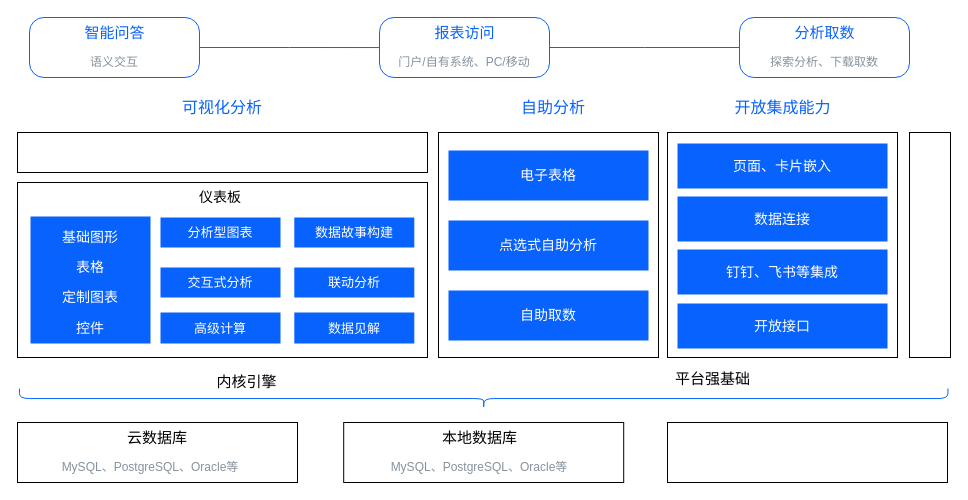
Image size: 968x500. Some labels were removed from this diagram. Each missing label, with the centre of its shape:
"数据门户" belongs at pixel 222 152.
"文件上传" belongs at pixel 807 452.
"组件及模版市场" belongs at pixel 929 245.
